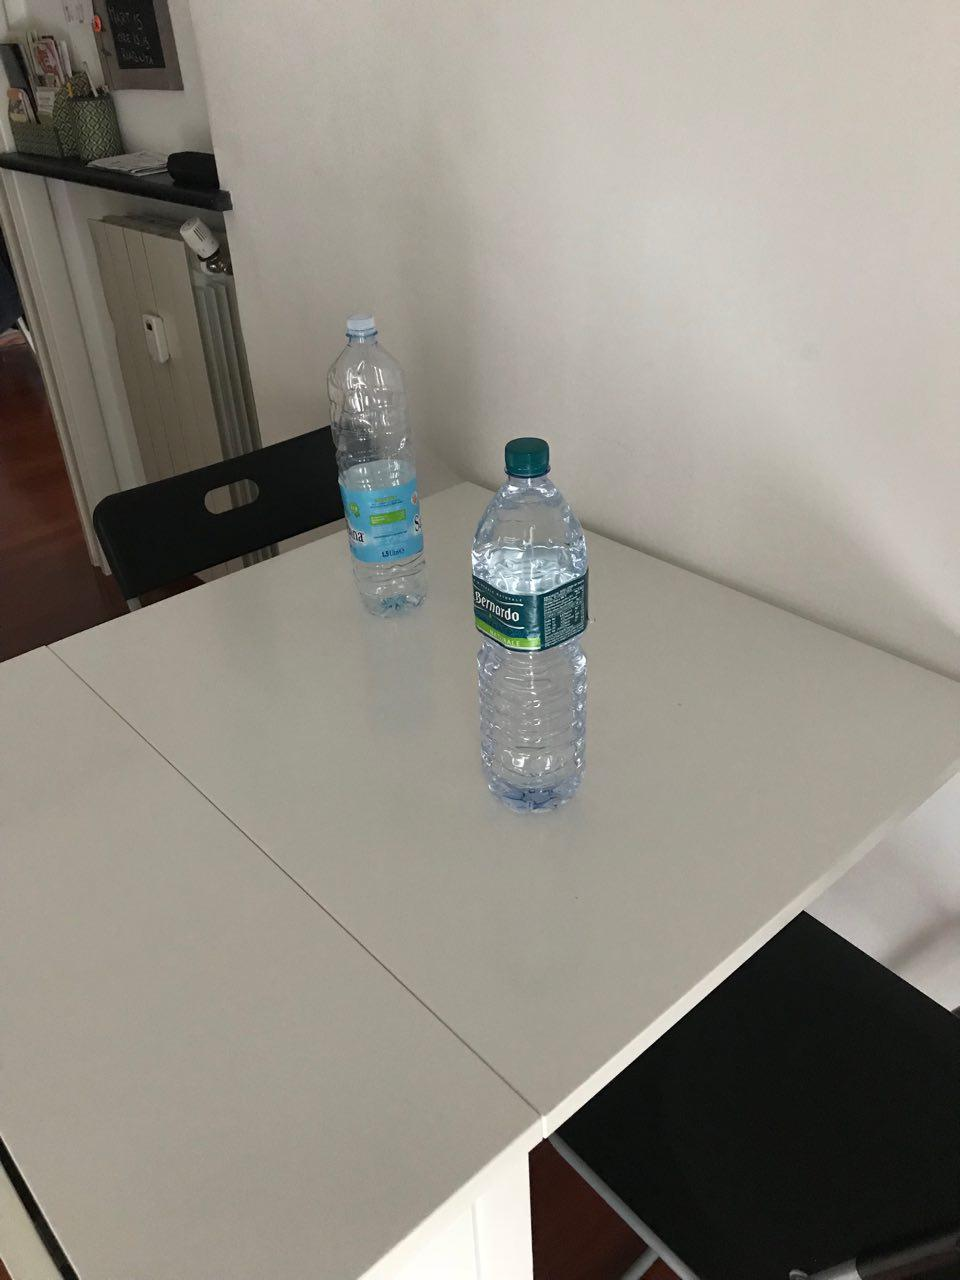san_bernardo: (471, 435, 589, 815)
